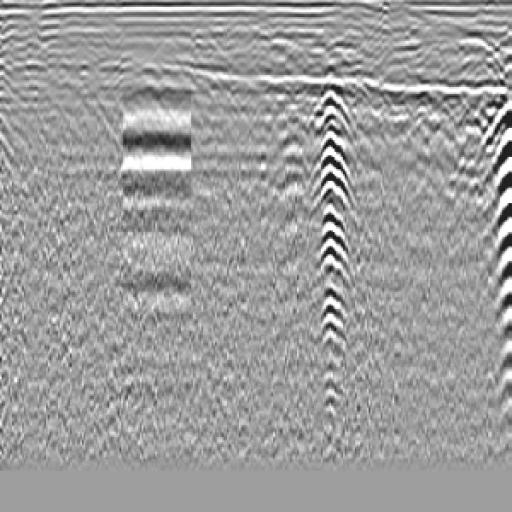non-metallic: (274, 61, 386, 439), (469, 95, 512, 410)
